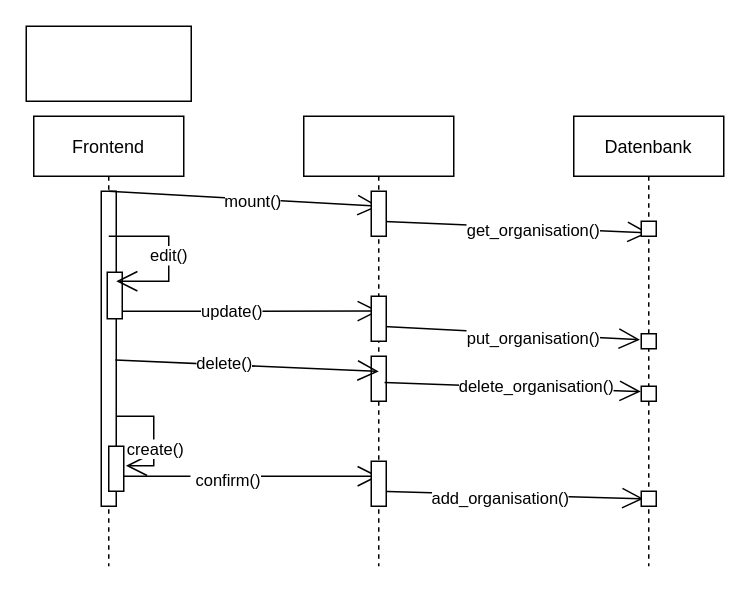
Some shapes in this 750 by 593 pixel diagram are drawn without their labels. Each missing label, with the box of its shape:
Backend: (302, 115, 454, 566)
Organisation: (25, 25, 191, 101)
